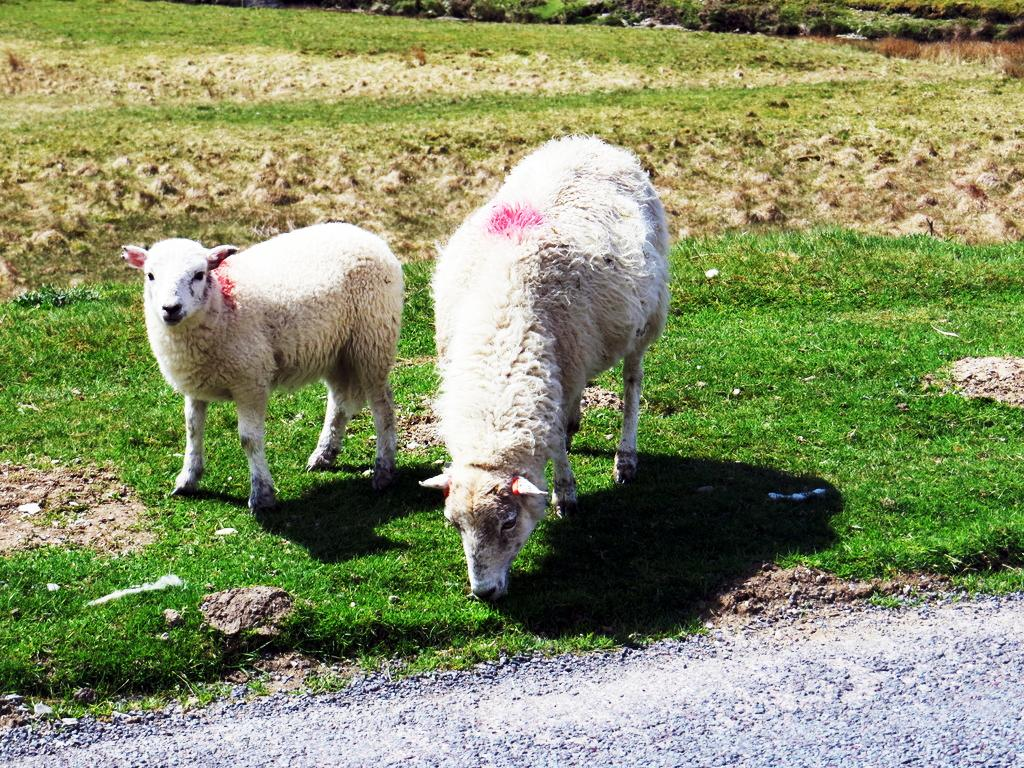Sheep: (420, 132, 668, 600), (122, 224, 402, 508)
